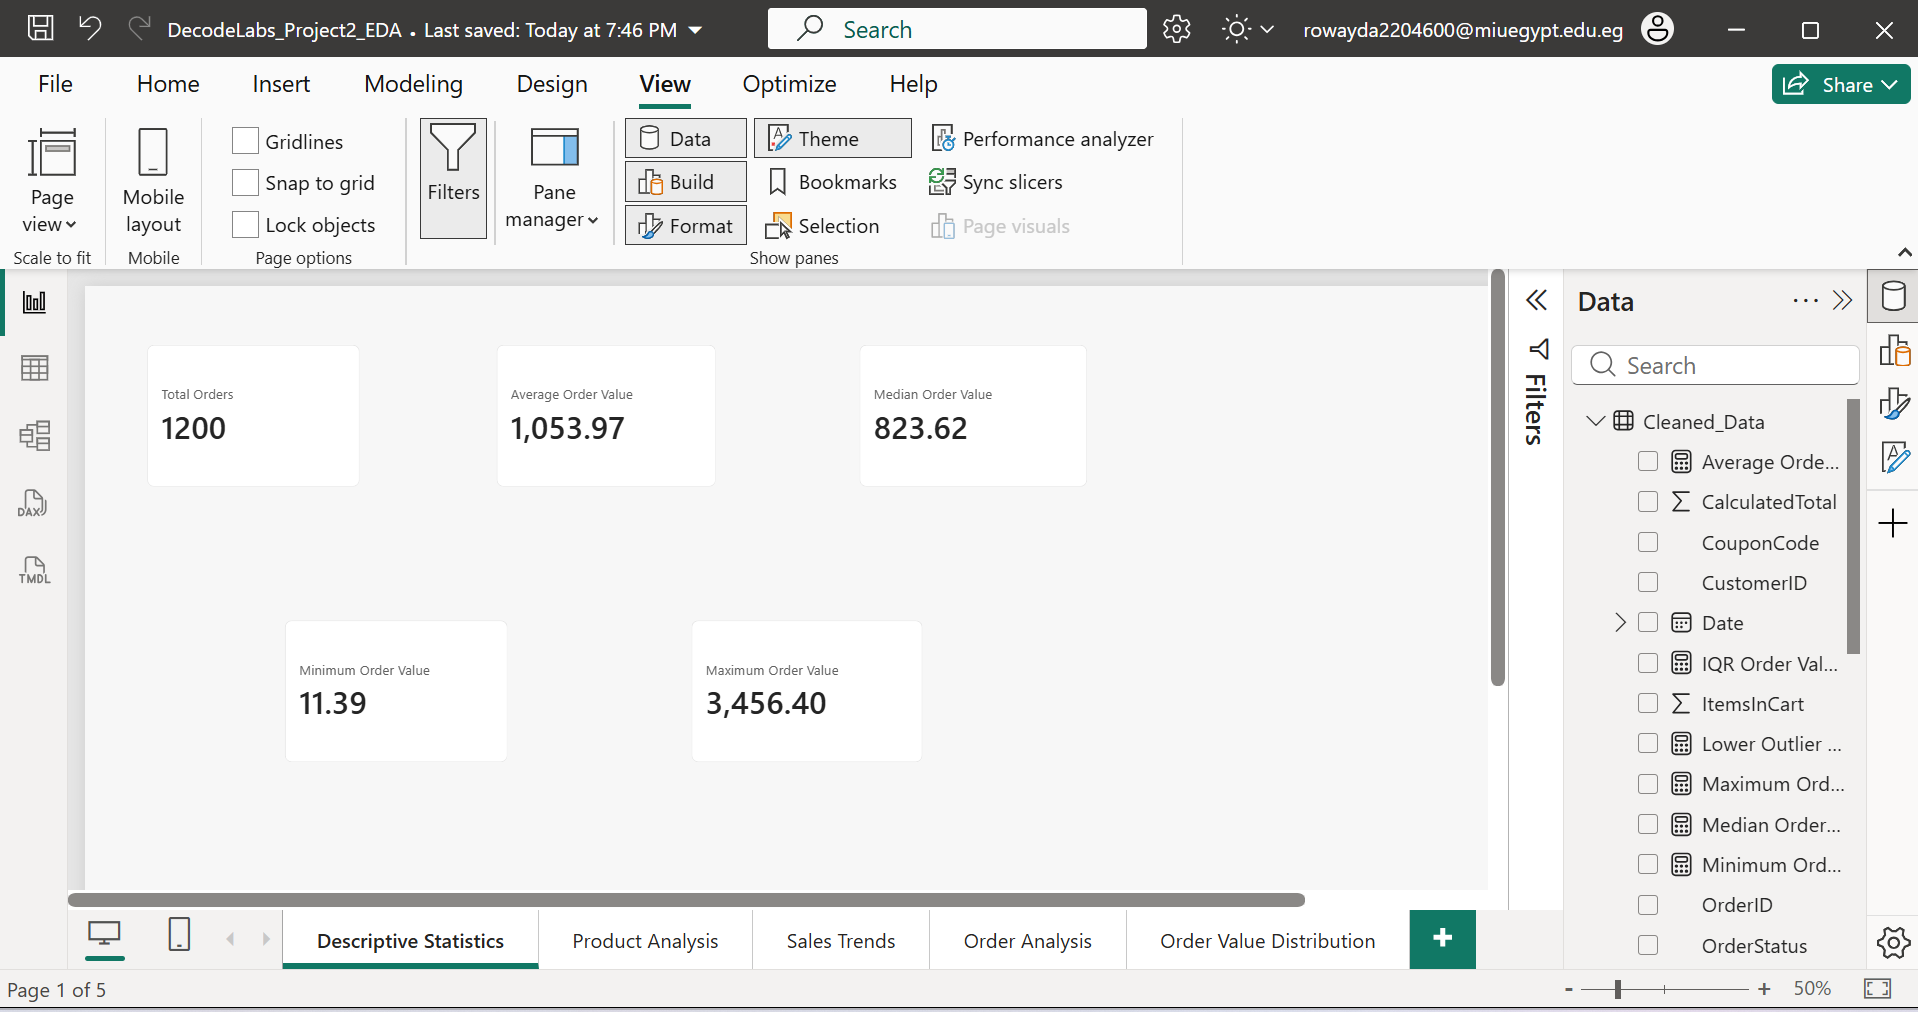

The dashboard page shown, as its layout file describes it:
{"tool":"powerbi","page":{"name":"Descriptive Statistics","canvas":[1920,1080],"ordinal":0},"visuals":[{"type":"cardVisual","fields":{"Data":["Cleaned_Data.Total Orders"]},"box":[73.1,69.2,253.8,169.2],"z":0},{"type":"cardVisual","fields":{"Data":["Cleaned_Data.Average Order Value"]},"box":[490.4,69.2,261.5,169.2],"z":1000},{"type":"cardVisual","fields":{"Data":["Cleaned_Data.Median Order Value"]},"box":[921.2,69.2,271.2,169.2],"z":2000},{"type":"cardVisual","fields":{"Data":["Cleaned_Data.Minimum Order Value"]},"box":[238.5,398.1,265.4,169.2],"z":3000},{"type":"cardVisual","fields":{"Data":["Cleaned_Data.Maximum Order Value"]},"box":[721.2,398.1,275,169.2],"z":4000}]}

Visuals, with their boxes on the page's 1920x1080 design canvas (x1, y1, x2, y2). These are canvas units, not pixel positions in the 1918x1012 screenshot, which may show the page scaled, cropped or inside an application window:
cardVisual - Cleaned_Data.Total Orders: l=73, t=69, r=327, b=238
cardVisual - Cleaned_Data.Average Order Value: l=490, t=69, r=752, b=238
cardVisual - Cleaned_Data.Median Order Value: l=921, t=69, r=1192, b=238
cardVisual - Cleaned_Data.Minimum Order Value: l=238, t=398, r=504, b=567
cardVisual - Cleaned_Data.Maximum Order Value: l=721, t=398, r=996, b=567
